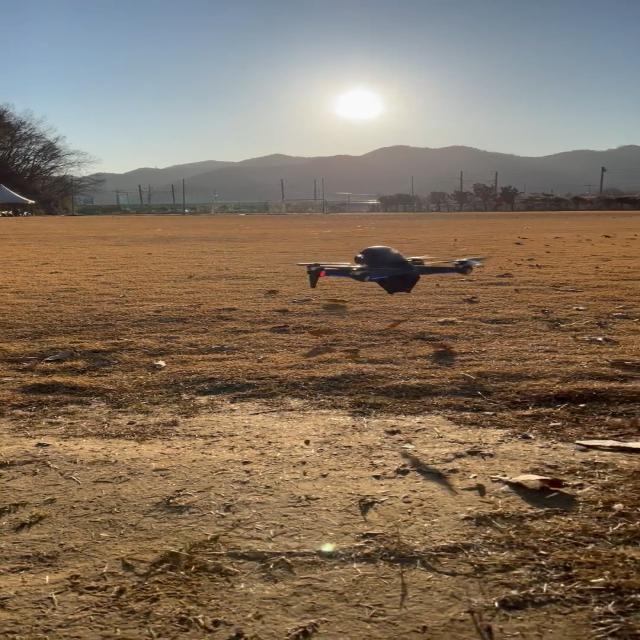drone: (294, 245, 488, 294)
